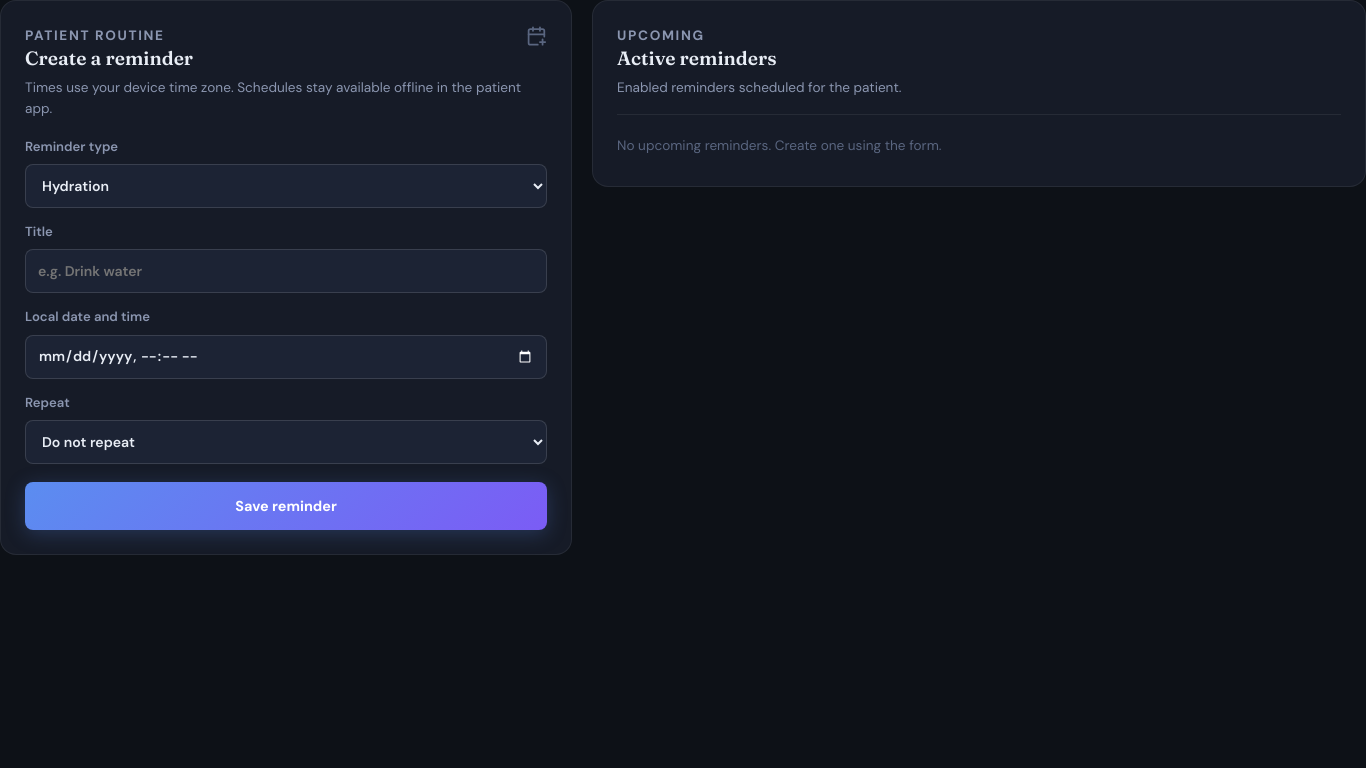
Test case: RemindersPage › submits a confirmed medication schedule with the browser time zone
The width and height of the screenshot is (1366, 768).
Select "Medication schedule" in the dropdown labelled "Reminder type" at point(286, 186), box left=25, top=164, right=547, bottom=208
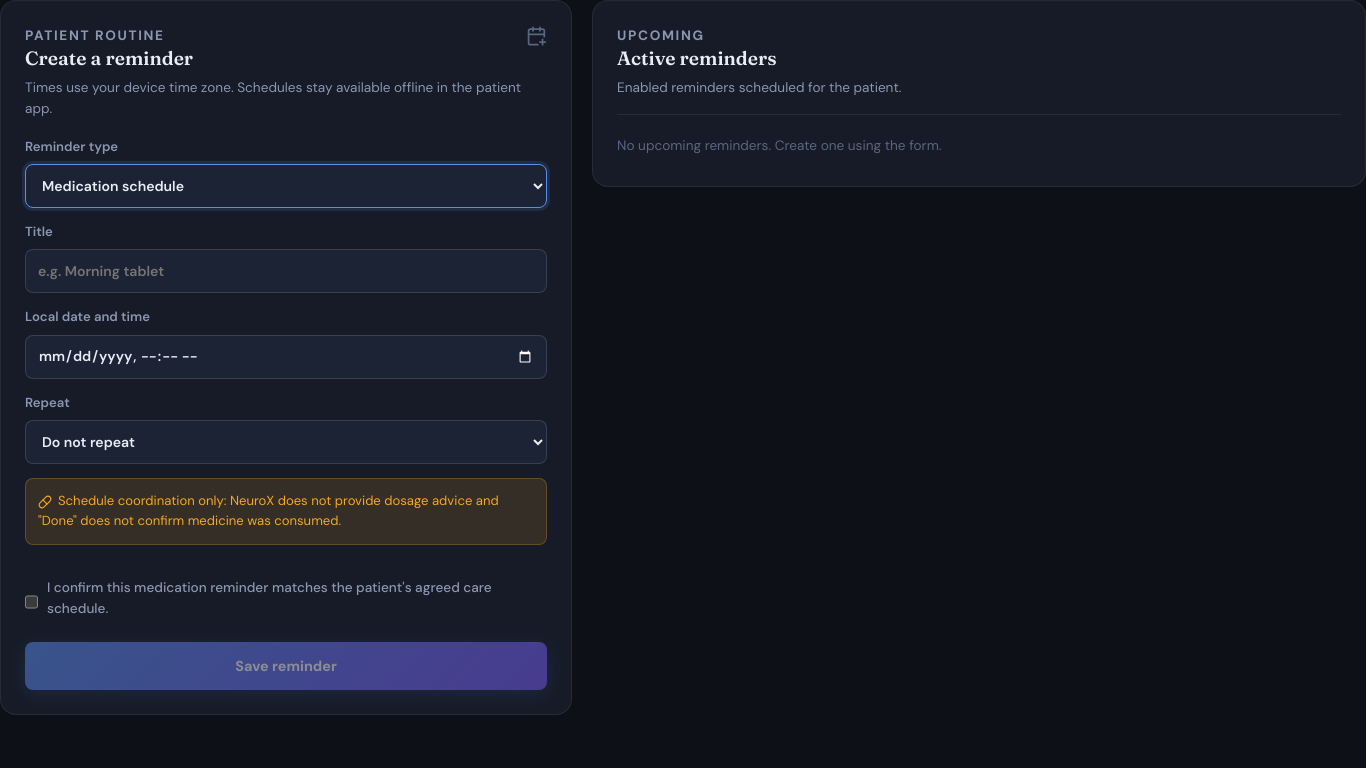
Type "Check care plan" into the field labelled "Title".
click(286, 271); type("Check care plan")  # box left=25, top=249, right=547, bottom=293
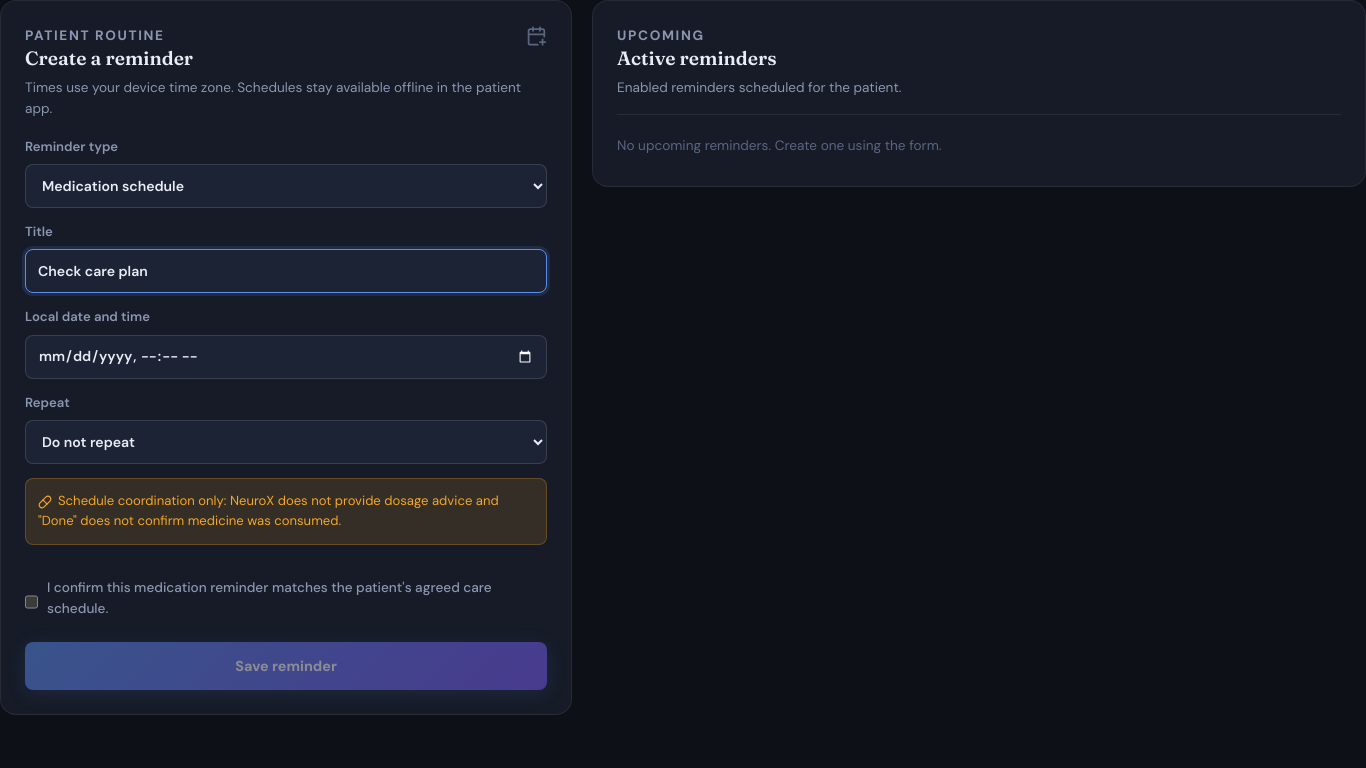
Type "2026-09-12T09:00" into the field labelled "Local date and time".
click(286, 357); type("2026-09-12T09:00")  # box left=25, top=335, right=547, bottom=379
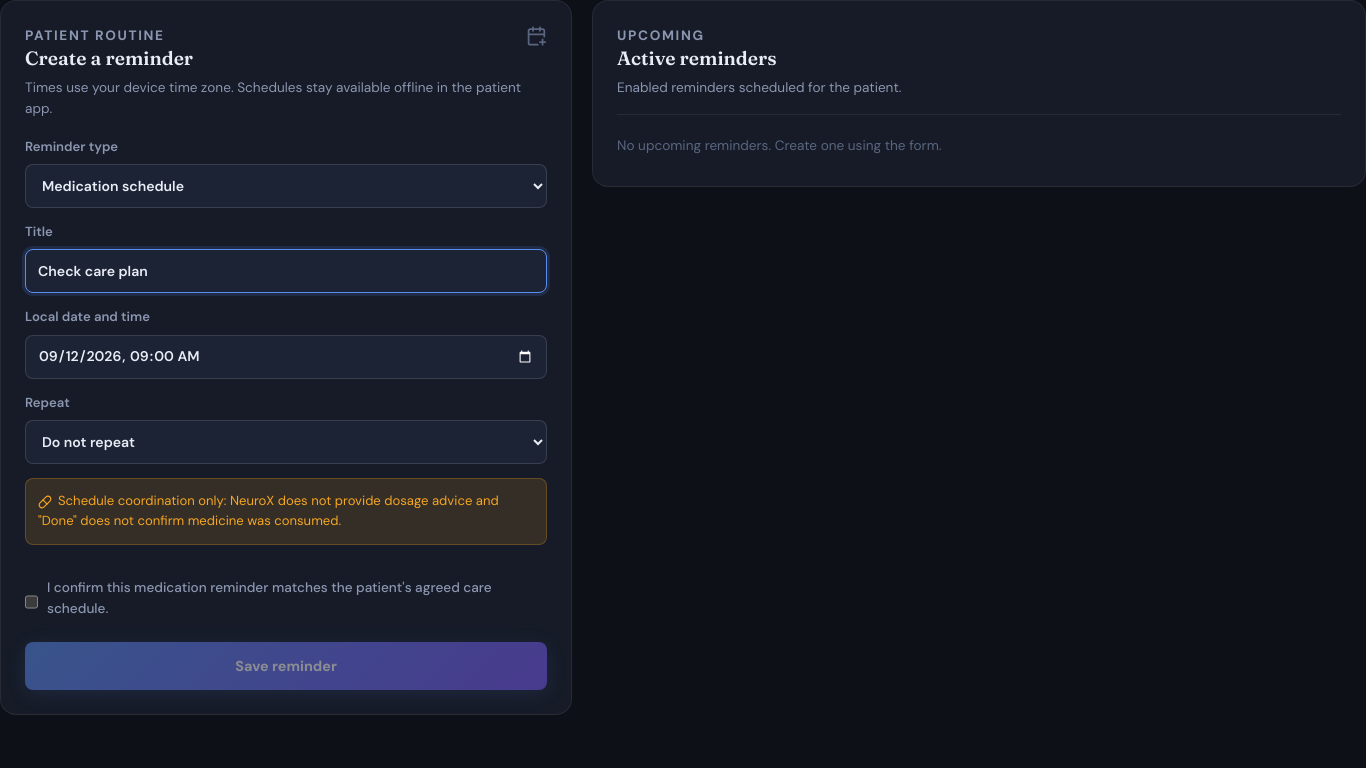
Select "Daily" in the dropdown labelled "Repeat" at point(286, 442), box left=25, top=420, right=547, bottom=464
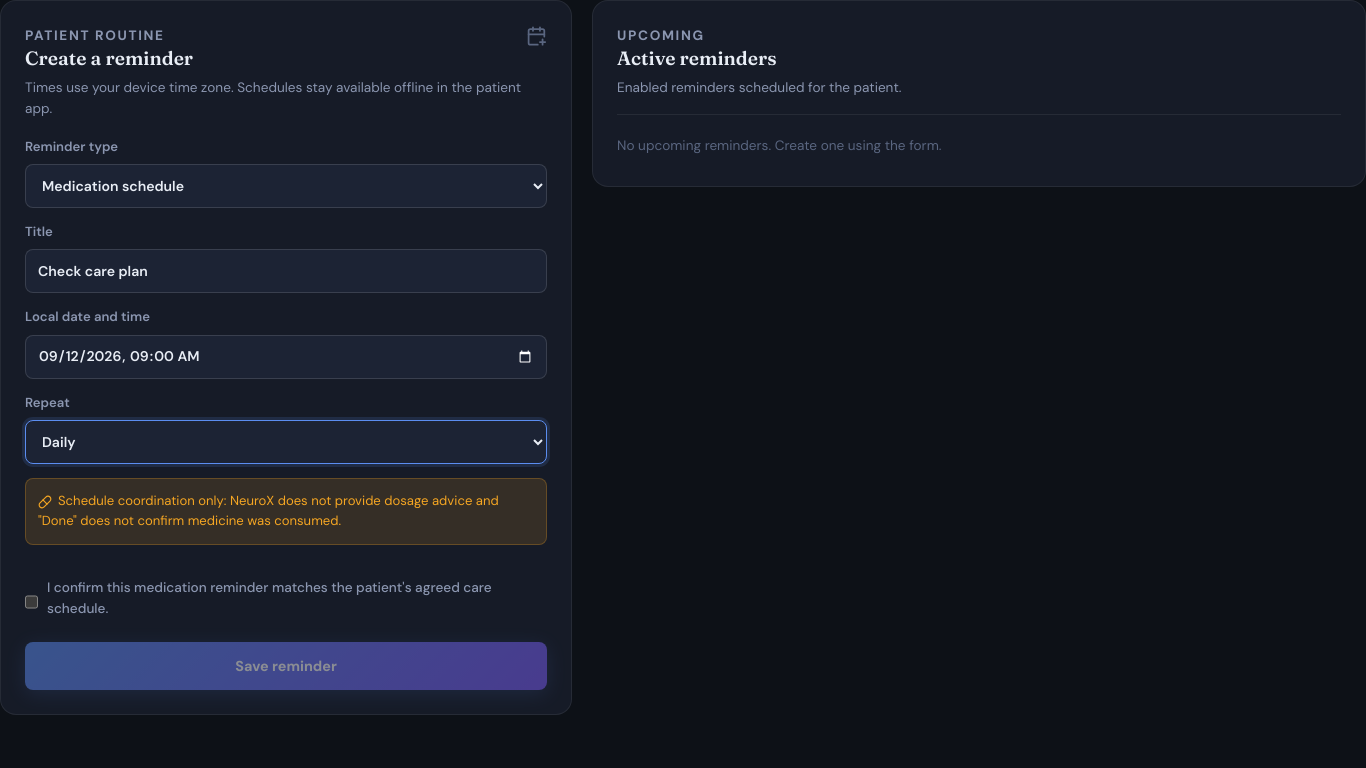
Click the checkbox labelled "I confirm this medication reminder".
click(32, 602)  # box left=25, top=580, right=38, bottom=624
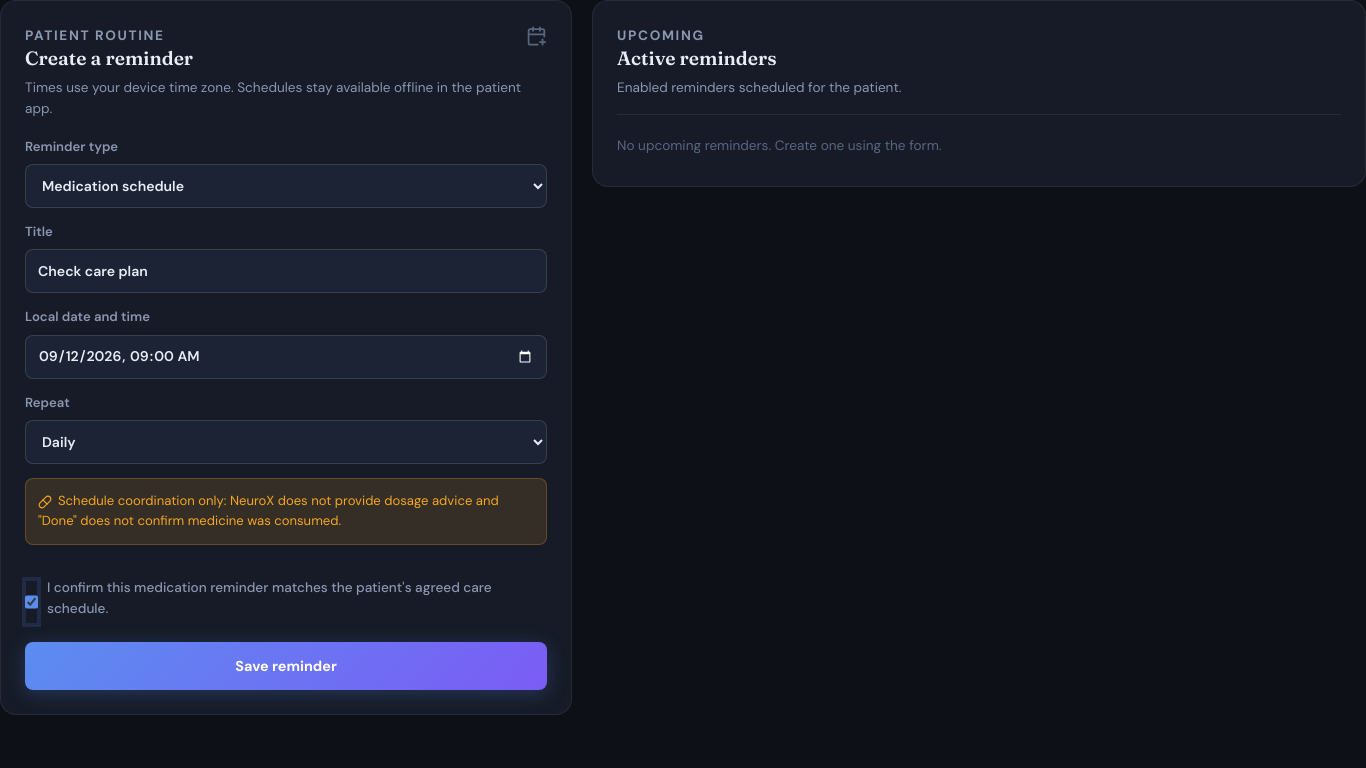
Click the button "Save reminder".
click(286, 666)  # box left=25, top=642, right=547, bottom=690
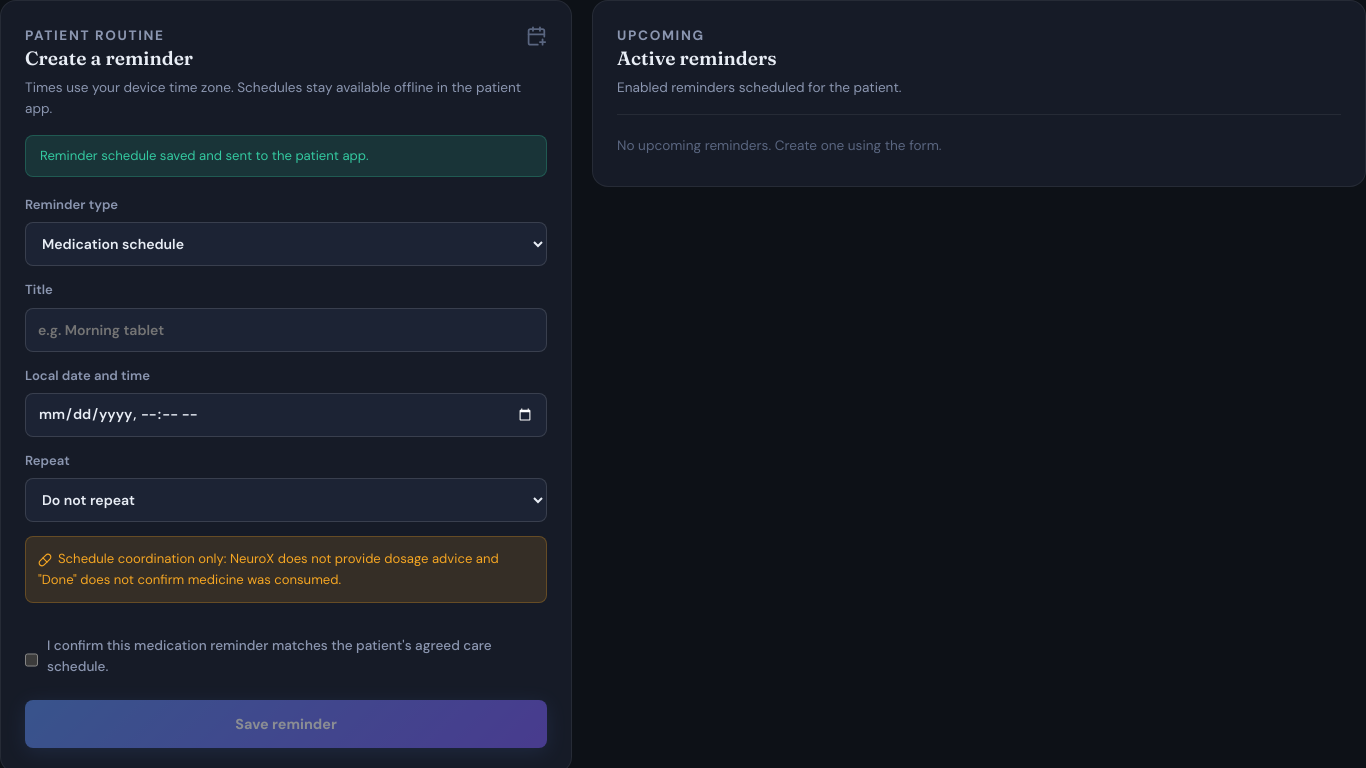
Expected: the text "Reminder schedule saved and sent to the patient app." is shown, left=25, top=135, right=547, bottom=177
